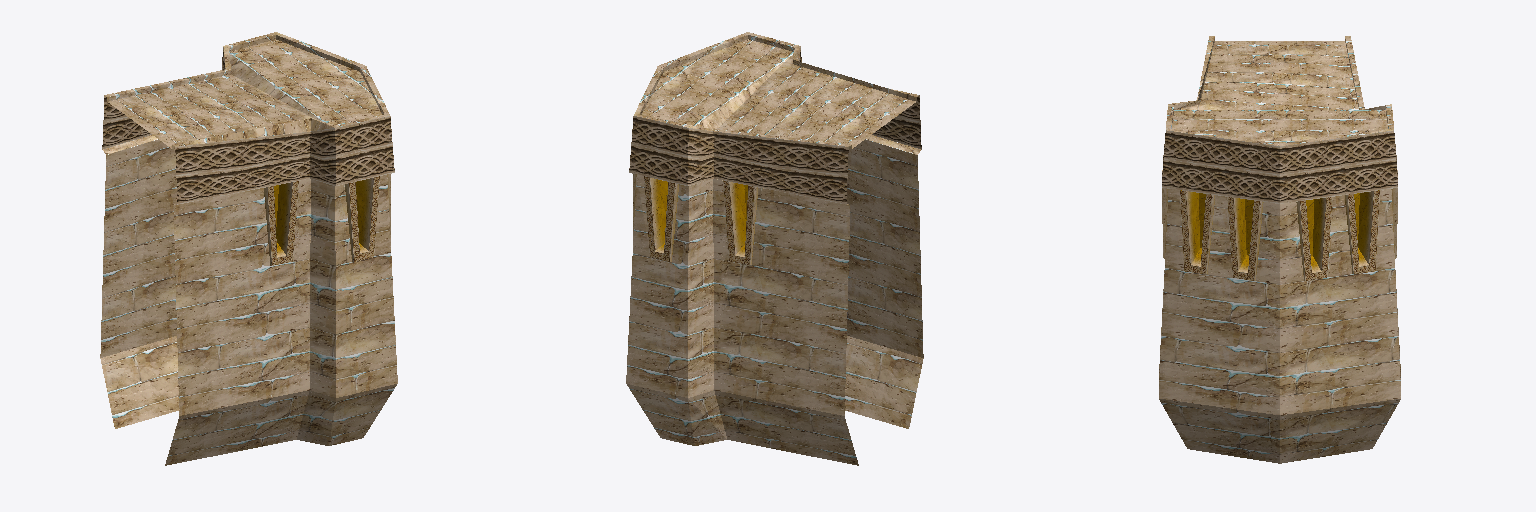
3 renders of one model, left to right at view 1: azimuth 30°, elevation 25°; view 2: azimuth 150°, elevation 25°; view 3: azimuth 270°, elevation 25°, orthographic.
Visible parts, largest first — view 1: fortress01_09; view 2: fortress01_09; view 3: fortress01_09.
Part boxes in pixels (x1,y1,x2,y2): fortress01_09: (100,32,397,465); fortress01_09: (626,32,923,465); fortress01_09: (1159,36,1400,463).
Size of the model in its own units: 31.17 by 41.9 by 28.25.
Materials: 4 (4 with a texture image).